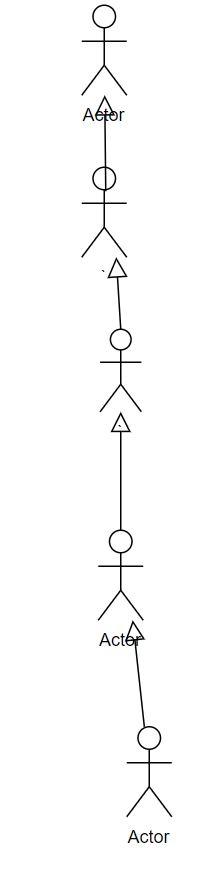actor: (119, 722, 175, 821), (94, 528, 145, 623), (81, 167, 132, 260), (80, 3, 128, 97), (100, 328, 145, 416)
generalization: (107, 410, 135, 531), (126, 620, 147, 725), (107, 258, 131, 327), (98, 95, 110, 189)
text: (77, 104, 131, 125), (125, 827, 174, 849), (100, 629, 141, 650)
